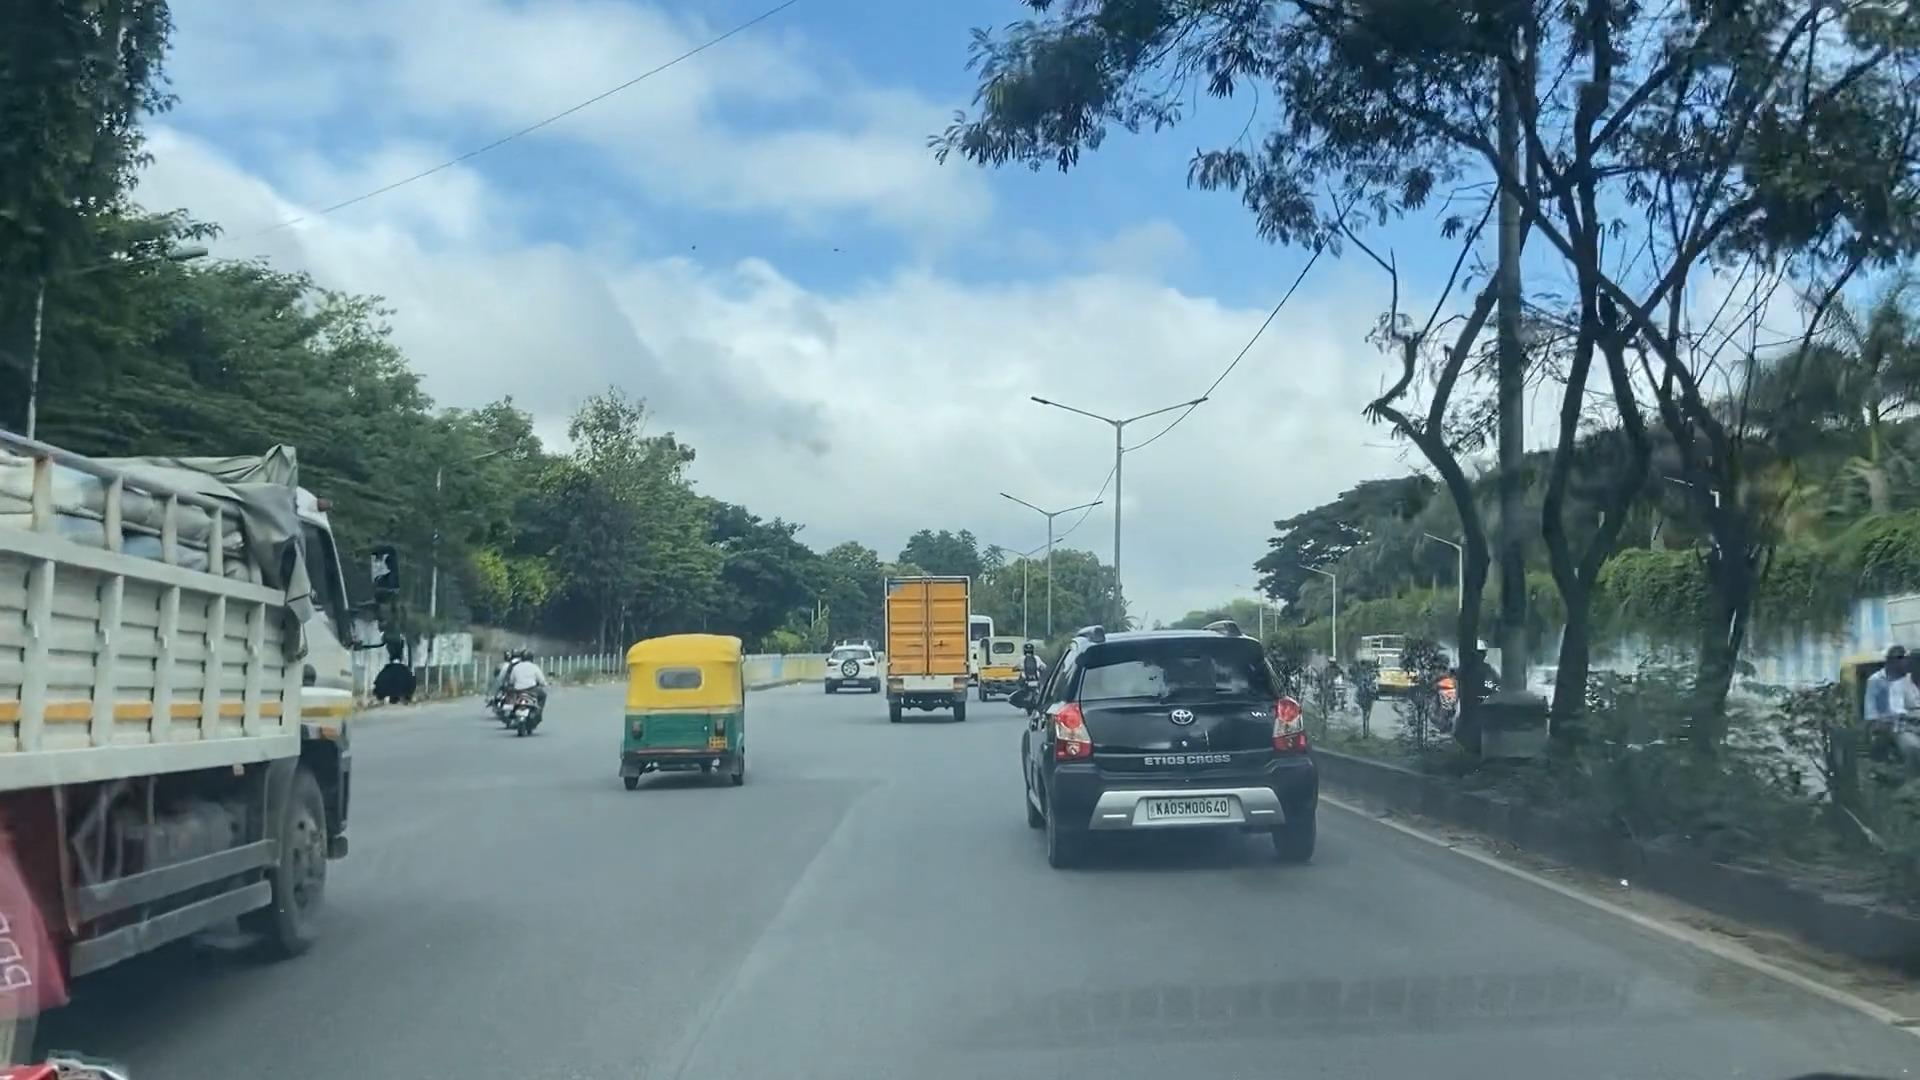HMV: (0, 429, 351, 1005), (887, 572, 984, 721)
LMV: (1023, 629, 1317, 887), (625, 644, 742, 778)
